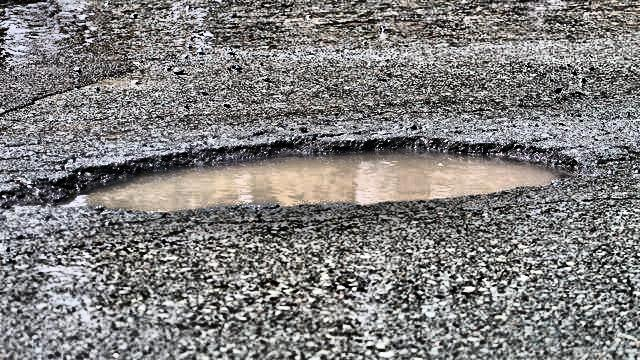pothole: (56, 130, 580, 229)
